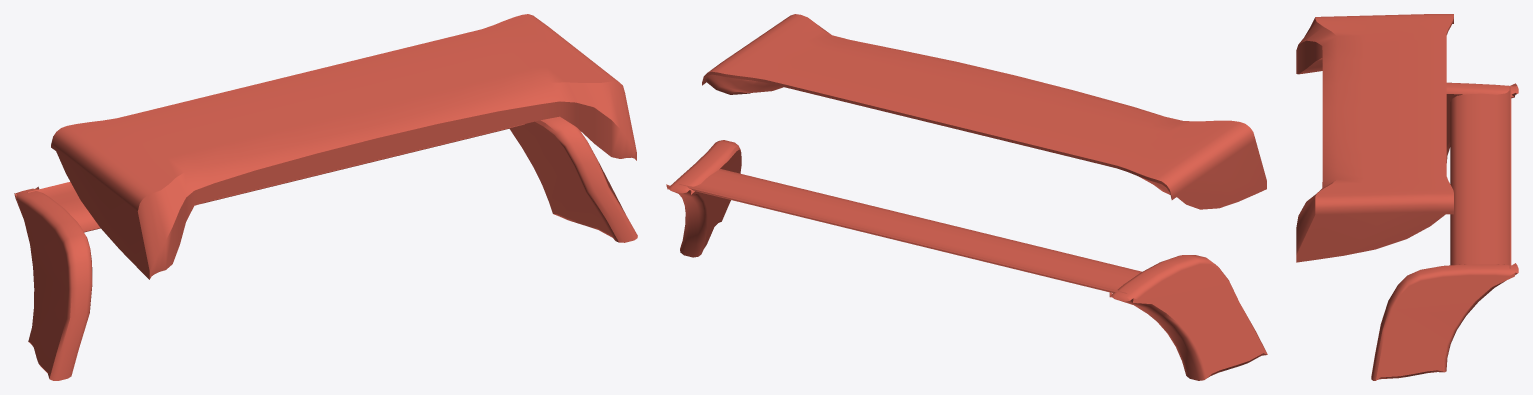
File: wendtStrom_spoiler_sexSpec.glb
3 renders of one model, left to right at view 1: azimuth 30°, elevation 25°; view 2: azimuth 150°, elevation 25°; view 3: azimuth 270°, elevation 25°, orthographic. The views are drawn at different scales.
Visible parts, largest first — view 1: spoiler_sexSpec; view 2: spoiler_sexSpec; view 3: spoiler_sexSpec.
Boxes of the visible parts, x1,y1,x2,y2 form: spoiler_sexSpec: (14,14,637,380); spoiler_sexSpec: (666,14,1267,380); spoiler_sexSpec: (1296,14,1518,380).
Bounding box in the file's own units: 1.45 × 0.4772 × 0.592.
